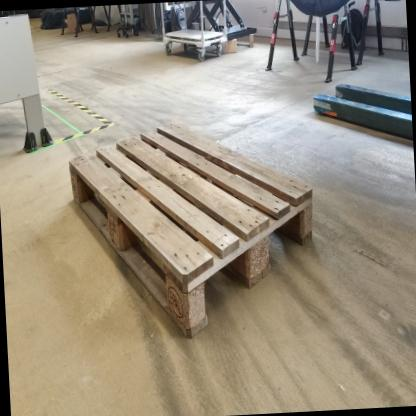BoxFace: (65, 114, 315, 350)
